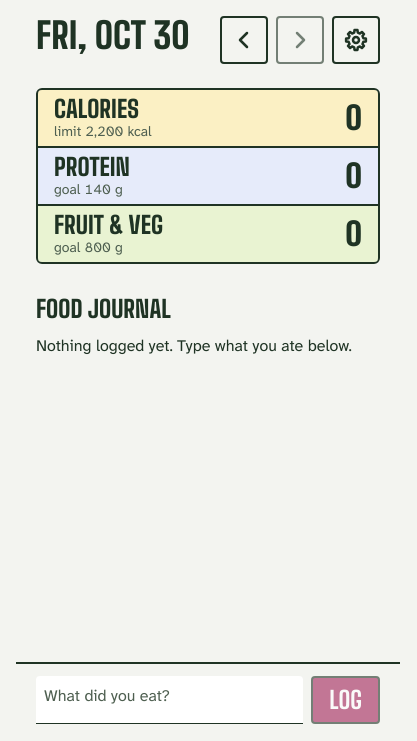
Test case: Targets on Today › shows a Set a target link once a target is cleared in Settings
Click the link named "Settings".
click(356, 40)  # box x1=332 y1=16 x2=380 y2=64
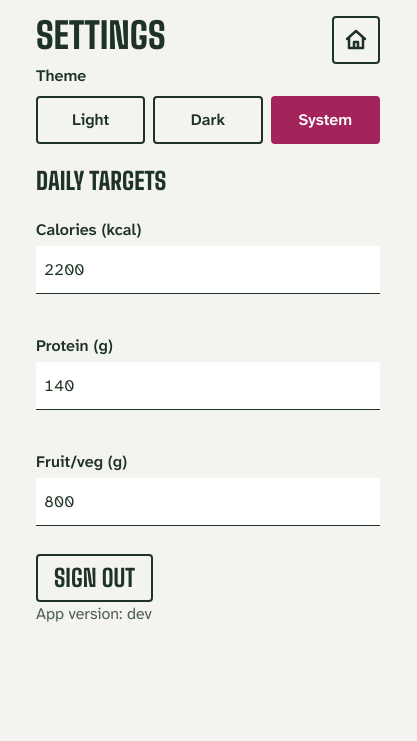
Clear the field labelled "Fruit/veg (g)" at (208, 502), box x1=36 y1=478 x2=380 y2=526
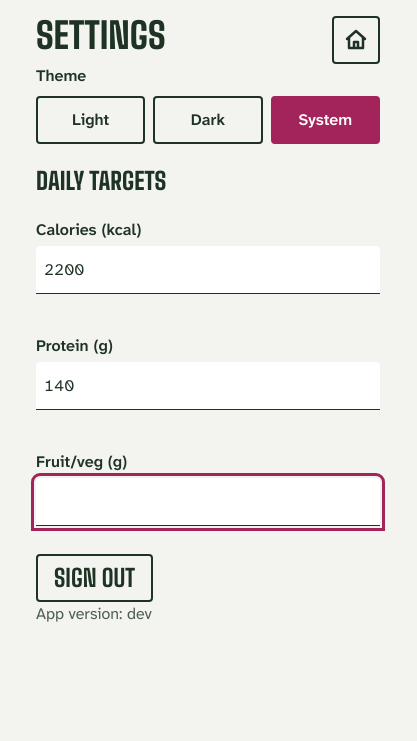
Press Tab
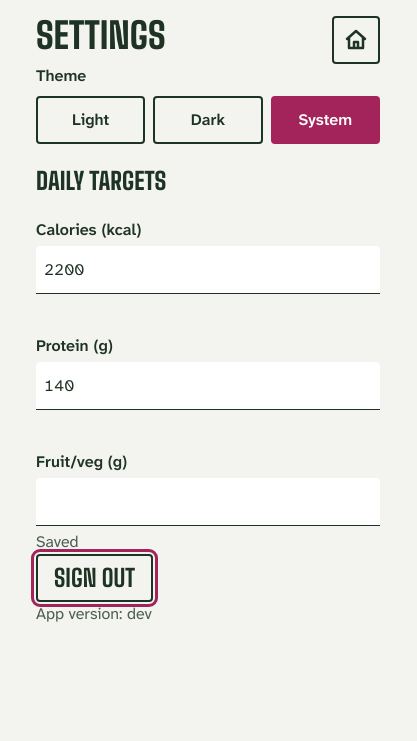
Click the link named "Home".
click(356, 40)  # box x1=332 y1=16 x2=380 y2=64
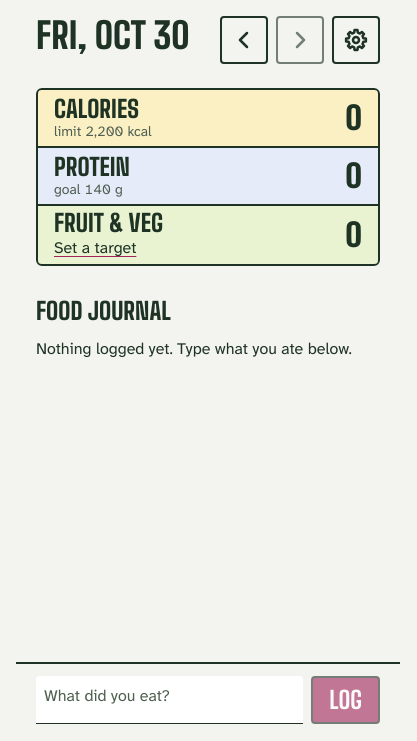
Check: the link "Set a target" is shown, box x1=54 y1=236 x2=136 y2=260
